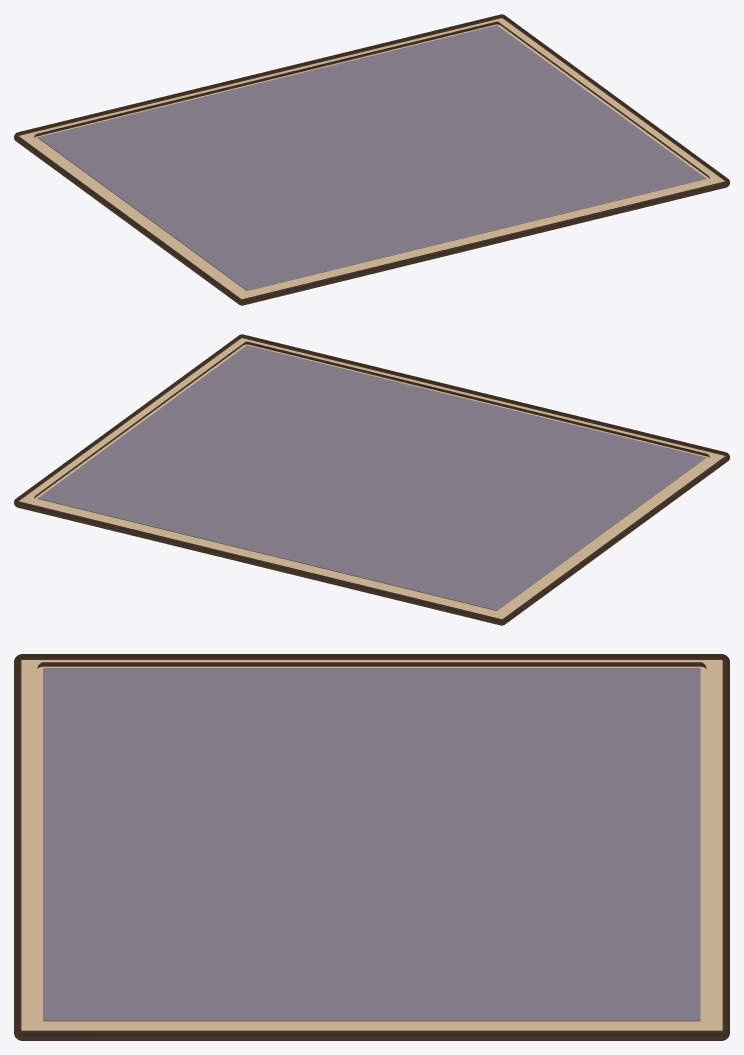
Rendered from tapete.glb.
3 renders of one model, top to bottom at view 1: azimuth 30°, elevation 25°; view 2: azimuth 150°, elevation 25°; view 3: azimuth 270°, elevation 25°, orthographic. The views are drawn at different scales.
Visible parts, largest first — view 1: tapete, tapete_outline; view 2: tapete, tapete_outline; view 3: tapete, tapete_outline.
Part boxes in pixels (<box>): tapete: <box>19,18,724,298</box>; tapete_outline: <box>14,14,729,305</box>; tapete: <box>19,338,724,618</box>; tapete_outline: <box>14,334,729,625</box>; tapete: <box>21,660,722,1030</box>; tapete_outline: <box>14,654,729,1040</box>.
Size of the model in its own units: 3.04 by 0.0606 by 2.44.
